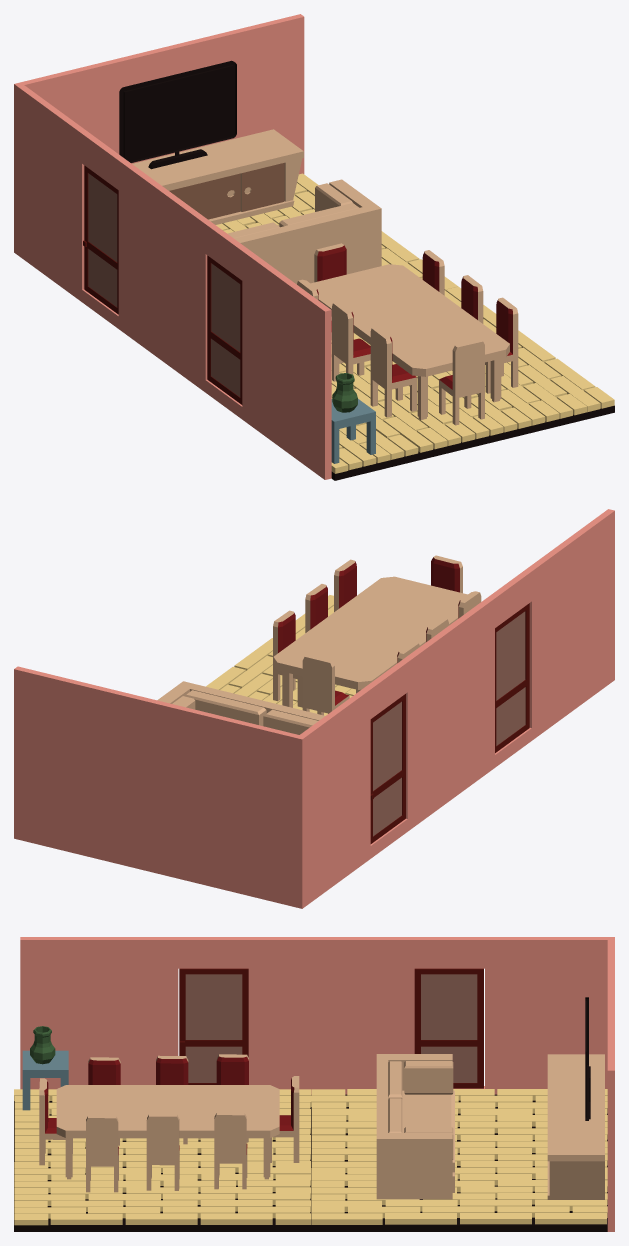
File: Saloon.fbx
The picture shows the model from 3 angles, top to bottom: view 1: azimuth 30°, elevation 25°; view 2: azimuth 150°, elevation 25°; view 3: azimuth 270°, elevation 25°; orthographic projection. The views are drawn at different scales.
Visible parts, largest first — view 1: SalonWall, SalonTable, SalonFloor, TvUnit, Sofa, Door.001, Door, Vase; view 2: SalonWall, SalonTable, Door, Door.001, Sofa, SalonFloor; view 3: SalonWall, SalonFloor, SalonTable, Sofa, TvUnit, Door, Door.001, Vase.
Boxes of the visible parts, left/top/right/bottom form: SalonWall: left=14, top=14, right=331, bottom=479; SalonTable: left=297, top=243, right=518, bottom=425; SalonFloor: left=216, top=173, right=614, bottom=480; TvUnit: left=119, top=60, right=303, bottom=224; Sofa: left=227, top=179, right=381, bottom=284; Door.001: left=207, top=255, right=242, bottom=404; Door: left=83, top=165, right=118, bottom=314; Vase: left=331, top=373, right=375, bottom=463; SalonWall: left=14, top=509, right=614, bottom=908; SalonTable: left=273, top=555, right=481, bottom=715; Door: left=370, top=694, right=405, bottom=843; Door.001: left=495, top=603, right=529, bottom=752; Sofa: left=157, top=681, right=324, bottom=734; SalonFloor: left=206, top=595, right=355, bottom=715; SalonWall: left=20, top=937, right=614, bottom=1231; SalonFloor: left=14, top=1089, right=607, bottom=1231; SalonTable: left=39, top=1054, right=299, bottom=1192; Sofa: left=376, top=1054, right=454, bottom=1199; TvUnit: left=547, top=997, right=604, bottom=1199; Door: left=414, top=968, right=483, bottom=1088; Door.001: left=179, top=968, right=248, bottom=1084; Vase: left=22, top=1026, right=68, bottom=1110.
Bounding box in the file's own units: 11.47 × 6.44 × 21.78.
